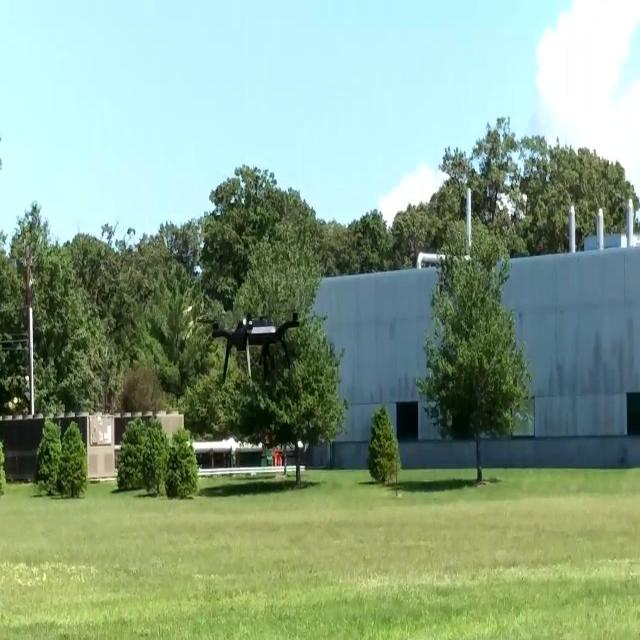drone: (210, 306, 302, 386)
